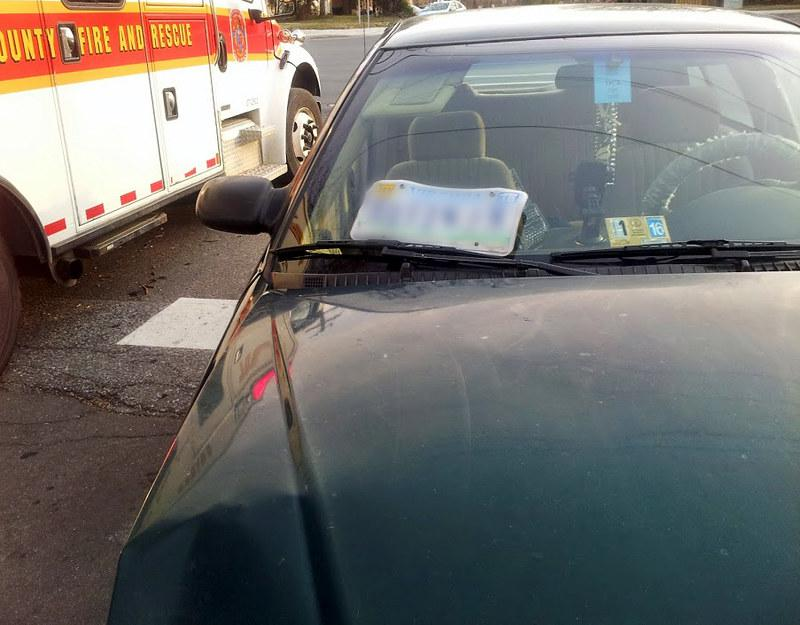bonnet-dent: (259, 283, 571, 426)
